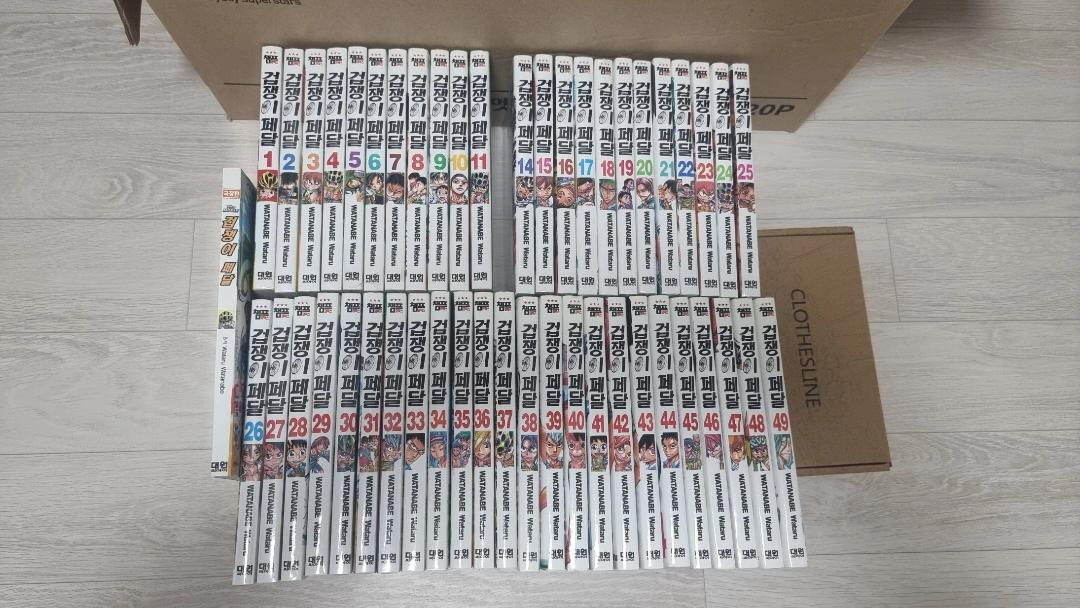book: (214, 45, 809, 585)
